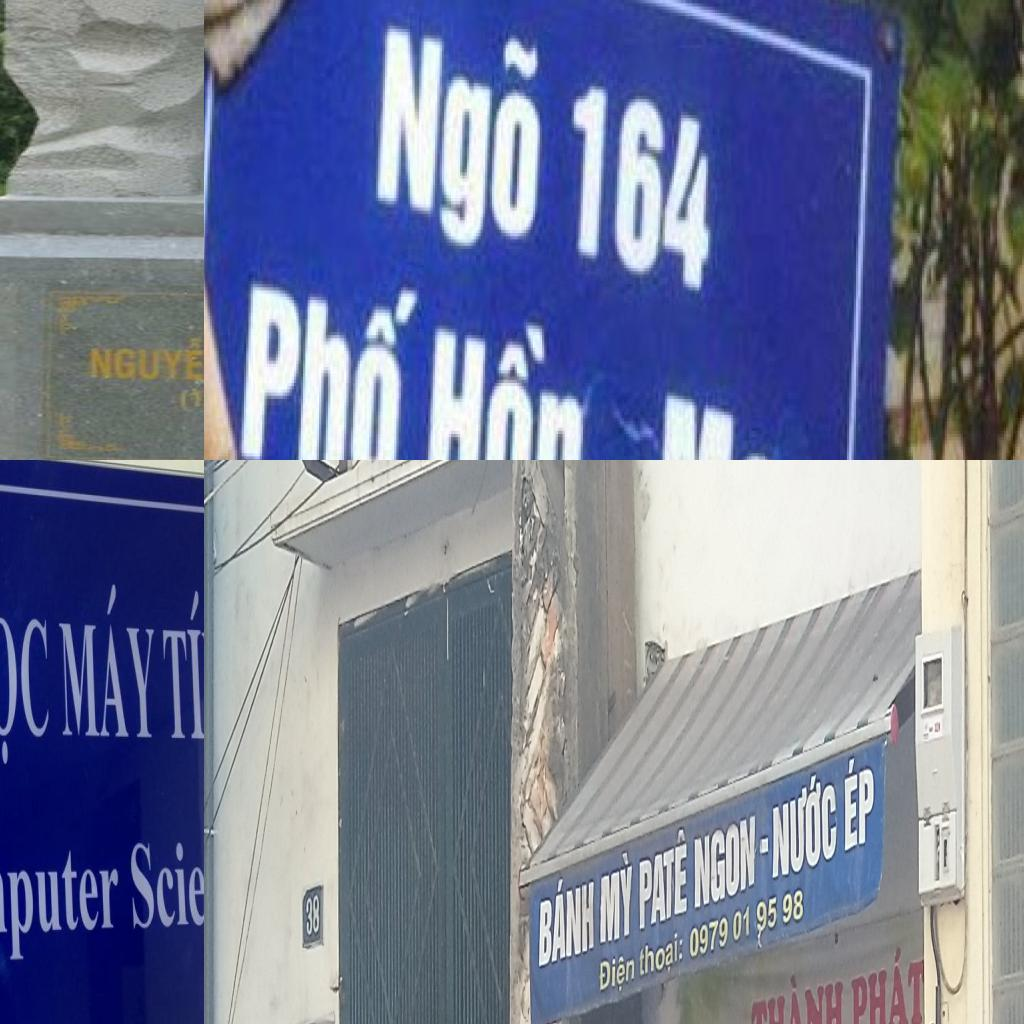text: (371, 0, 553, 271), (237, 239, 428, 460), (562, 70, 722, 304), (421, 303, 596, 460), (54, 577, 163, 752), (0, 835, 125, 978), (688, 876, 805, 968), (651, 383, 790, 460), (0, 606, 55, 773), (770, 759, 838, 885), (159, 589, 204, 752), (692, 808, 757, 915), (748, 952, 844, 1024), (847, 937, 923, 1024), (536, 865, 596, 972), (84, 335, 204, 384), (637, 824, 688, 936), (841, 740, 877, 859), (598, 847, 636, 952), (638, 922, 686, 988), (598, 941, 637, 1003), (303, 888, 322, 944), (176, 387, 204, 412)
